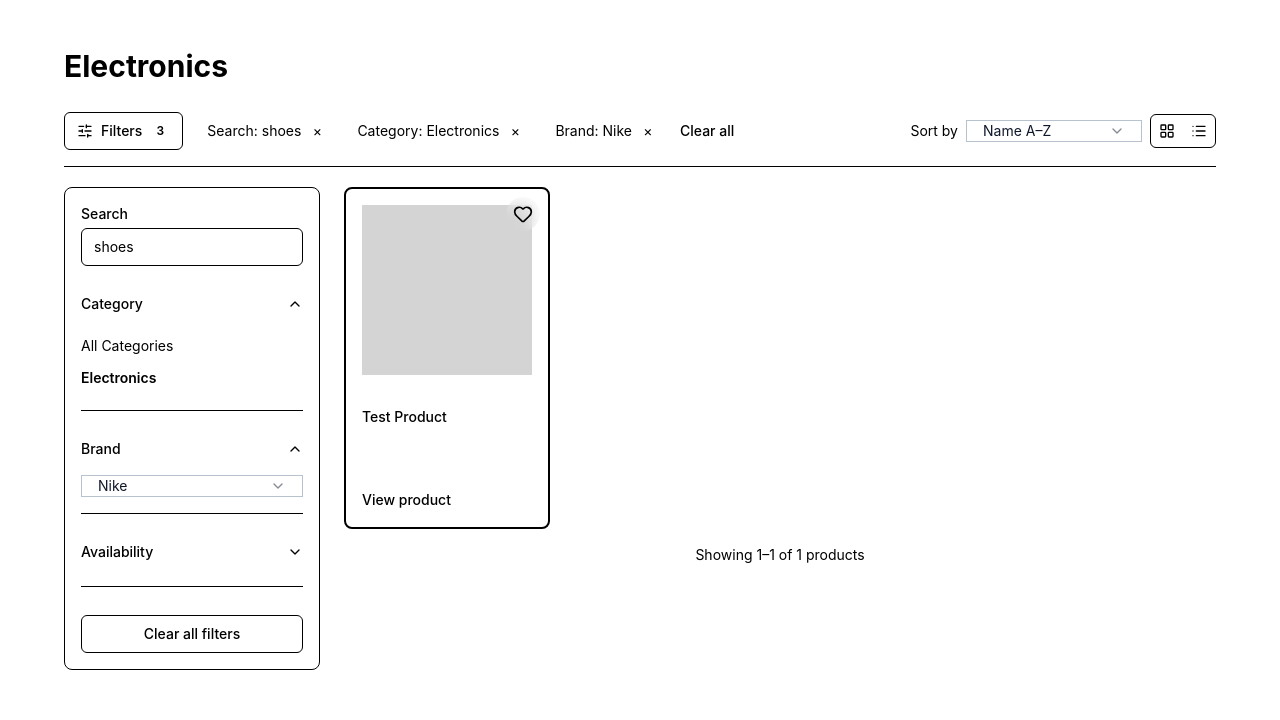
ProductListPage integration › Clear all filters › removes all active filter params when "Clear all filters" is clicked
Expected: the text "Category: Electronics" is shown, [357,122,499,139]
Expected: the text "Brand: Nike" is shown, [555,122,632,139]
Click the button "Clear all filters" at (192, 634), box [81,615,303,653]
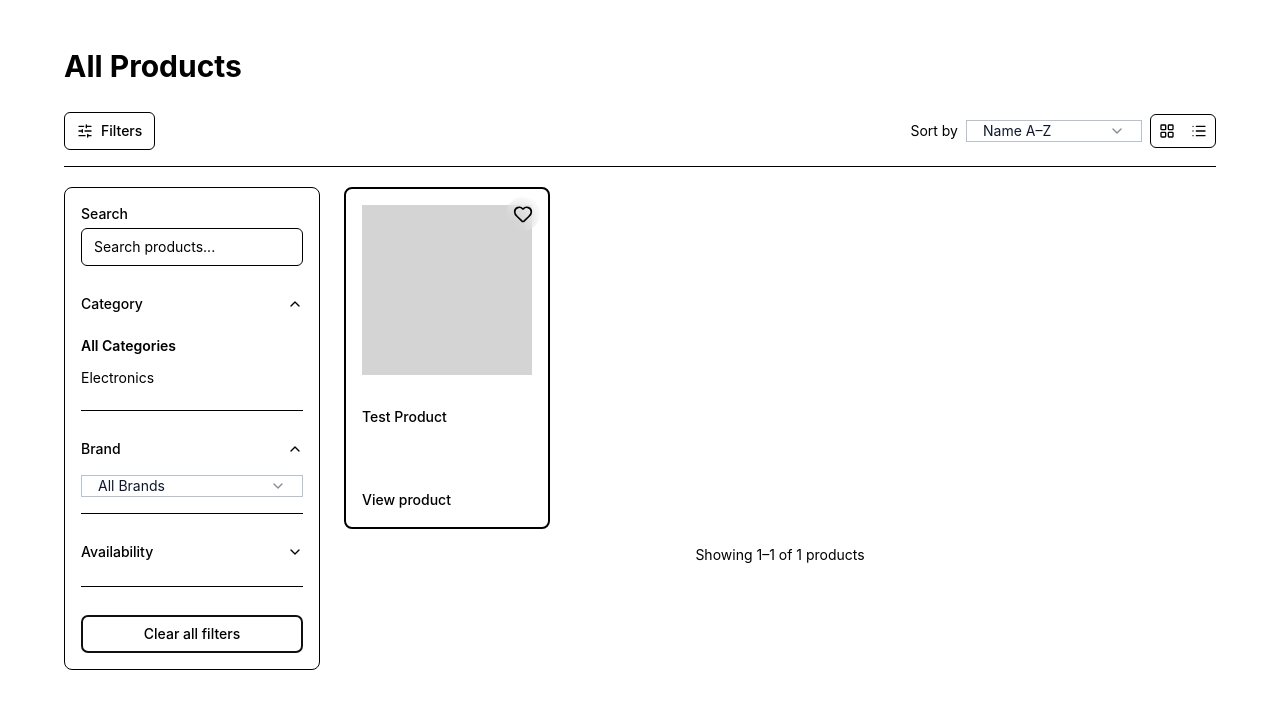
Now the text "Category: Electronics" is gone
Now the text "Brand: Nike" is gone
Now the text "Search:" is gone
